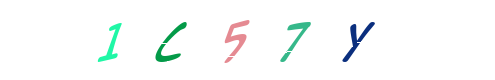1: (129, 0, 209, 80)
5: (202, 0, 282, 80)
7: (207, 0, 287, 80)
C: (167, 0, 247, 80)
Y: (316, 0, 396, 80)
